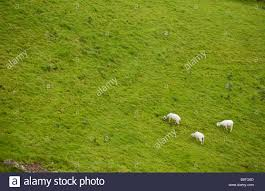sheep: (215, 118, 236, 136), (161, 110, 182, 126), (189, 131, 205, 148)
